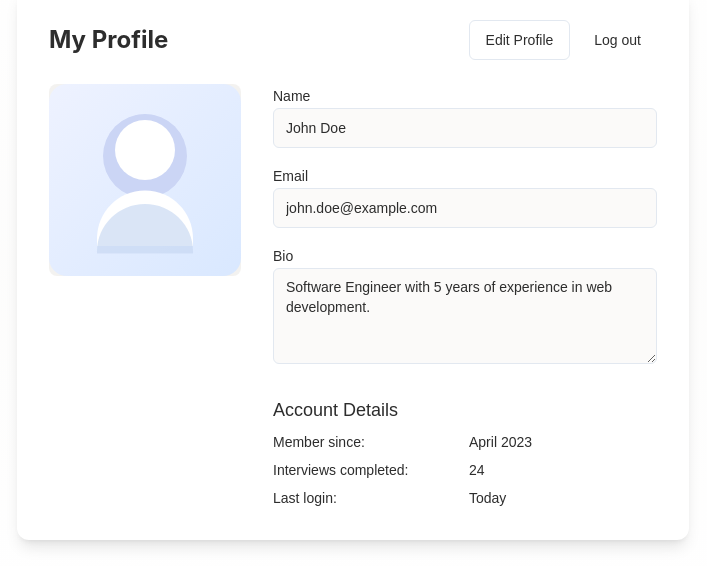
Profile Page Integration Tests › Profile Editing Workflow › should show change photo button only in edit mode
Expected: the button "change photo" is not shown
Visible in edit mode
What coordinates should you click on to do the following:
click the button "Edit Profile"
I would click on:
 (519, 40)
Its box is [469,20,570,60].
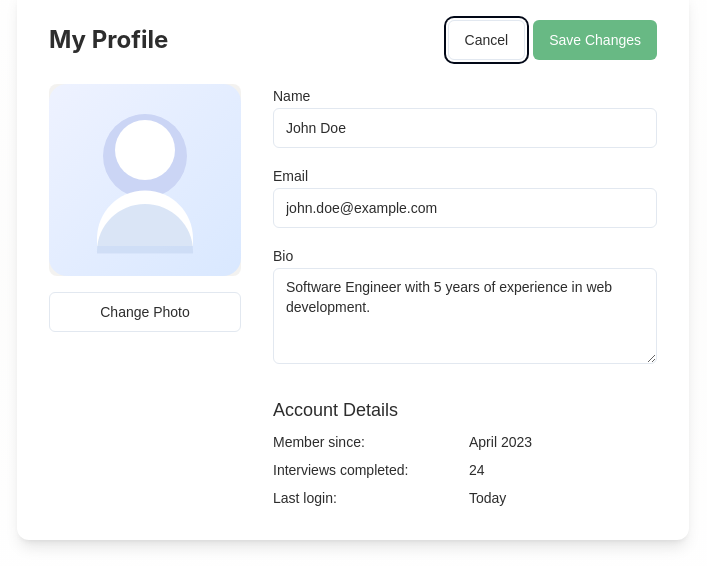
Now the button "Change Photo" is shown, box [49,292,241,332]
Hidden again after cancel
What coordinates should you click on to do the following:
click the button "Cancel"
I would click on:
 (486, 40)
Its box is [448,20,525,60].
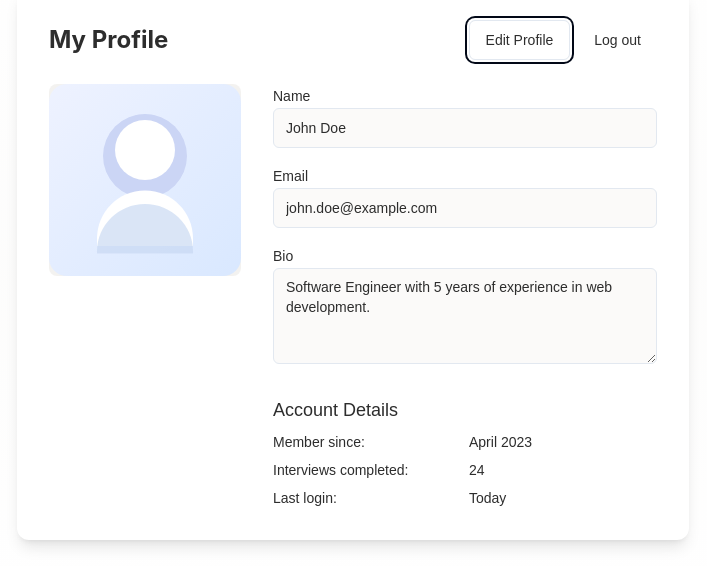
Now the button "Change Photo" is gone
